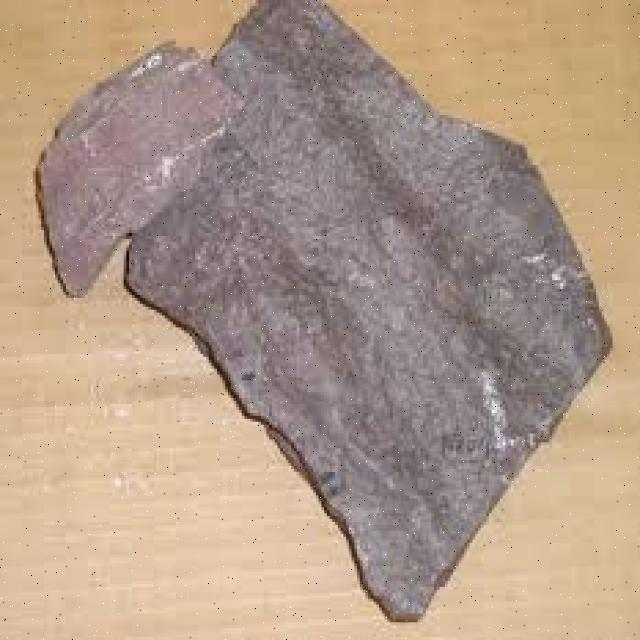Metamorphic: (41, 9, 607, 613)
